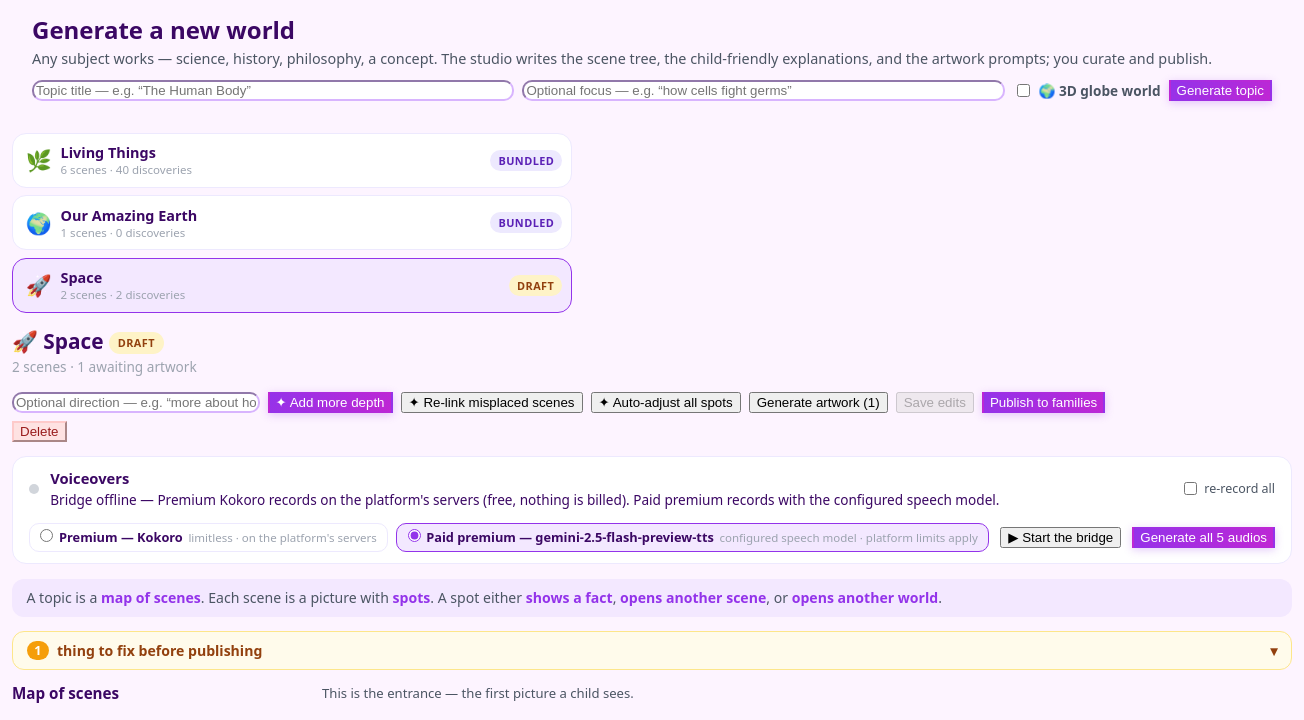
WikidoStudio — bundled worlds in the studio › opens a bundled world in the normal scene and spot editor
The width and height of the screenshot is (1304, 720).
Click the button with class "chip-main" that starts with "Living Things".
click(108, 153)  # box [23,138,565,183]
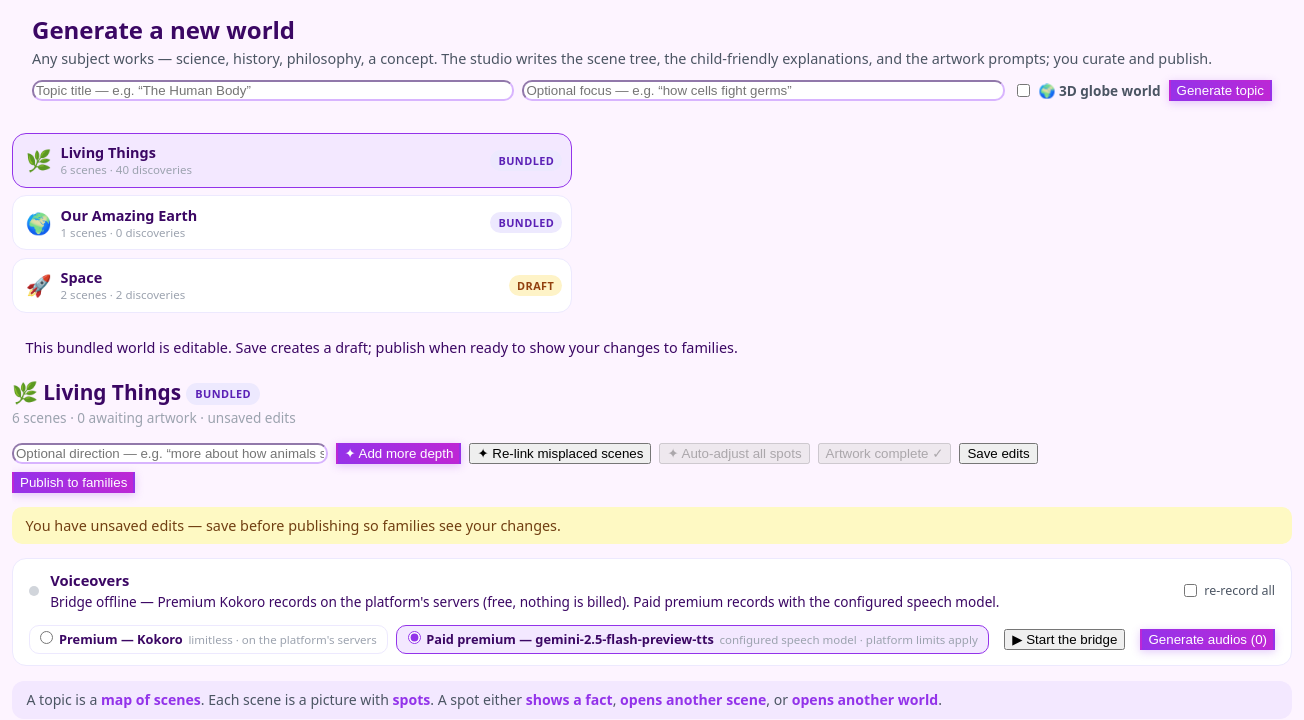
Check: the element with class "toolbar-actions" is shown, box [12,443,1038,493]
Check: the button "✦ Auto-adjust all spots" is disabled, box [659,443,810,464]
